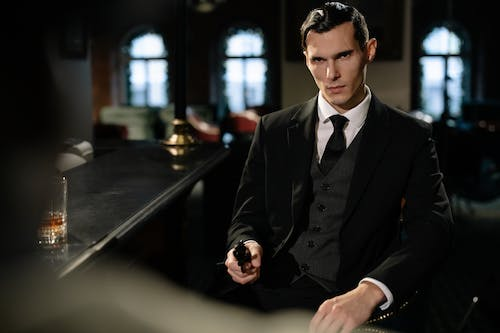alcohol: (34, 173, 69, 247)
gun: (232, 238, 254, 274)
